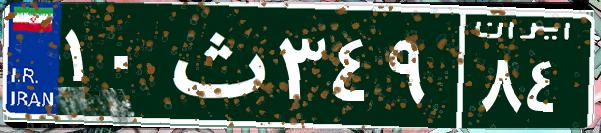0: (110, 28, 158, 105)
1: (57, 26, 110, 107)
3: (273, 28, 330, 110)
4: (330, 28, 385, 110), (525, 38, 570, 115)
8: (475, 38, 525, 113)
9: (385, 28, 445, 110)
ث: (158, 15, 273, 115)
